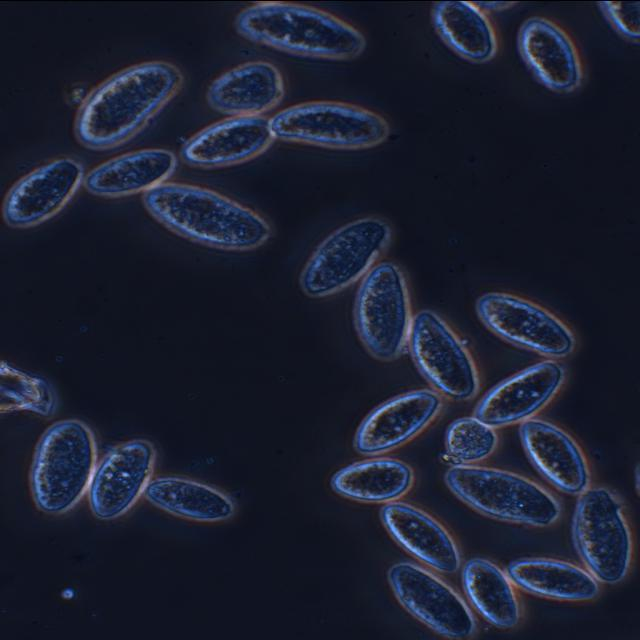Cell: (59, 44, 191, 160), (132, 168, 275, 267), (292, 204, 398, 307), (438, 458, 564, 535), (369, 490, 474, 582), (343, 375, 446, 466), (467, 351, 572, 440), (392, 310, 489, 405), (375, 558, 486, 640), (469, 283, 579, 364), (0, 145, 94, 239), (77, 428, 160, 529), (23, 413, 101, 520), (508, 411, 599, 497), (176, 106, 279, 178), (269, 94, 391, 152), (509, 11, 591, 97), (451, 551, 533, 637), (501, 551, 603, 607), (139, 471, 239, 527), (80, 145, 180, 201), (356, 266, 409, 359), (326, 454, 415, 507), (203, 61, 281, 115), (437, 410, 501, 473), (602, 1, 638, 36), (477, 1, 514, 11)
